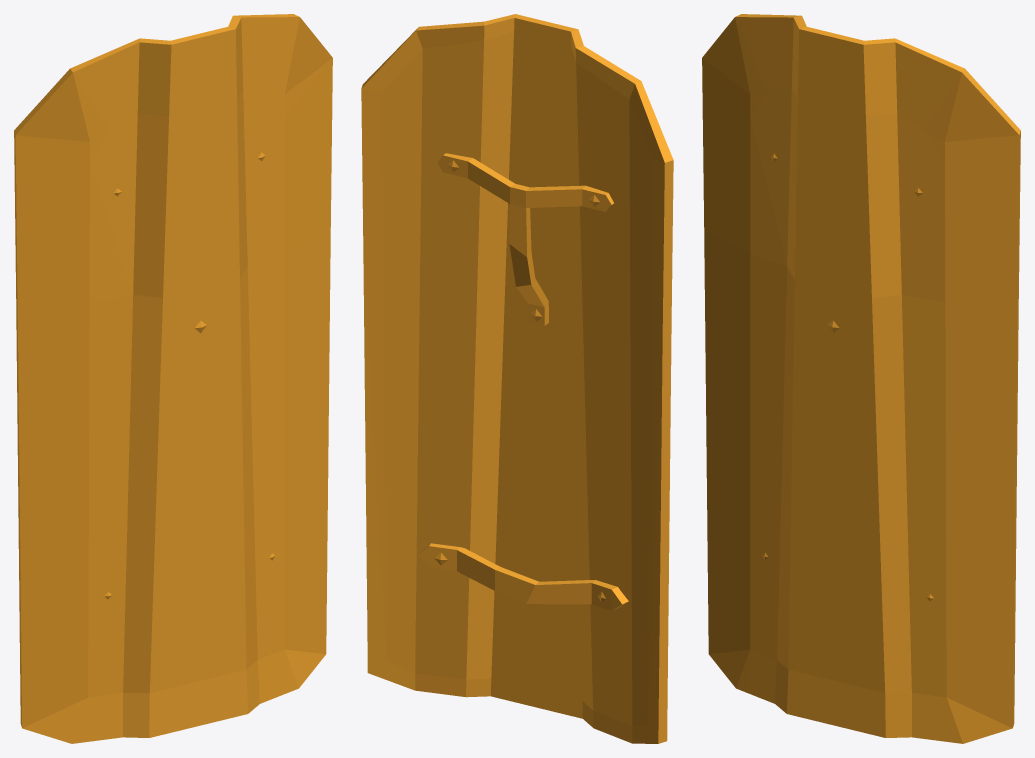
The model's file is SM_Shield_Pavise_C.fbx.
The picture shows the model from 3 angles, left to right: view 1: azimuth 30°, elevation 25°; view 2: azimuth 150°, elevation 25°; view 3: azimuth 330°, elevation 25°; orthographic projection. The views are drawn at different scales.
Parts seen in each view (by area): view 1: shield-pavise-c; view 2: shield-pavise-c; view 3: shield-pavise-c.
Boxes of the visible parts, bbox=[...] form: shield-pavise-c: bbox=[14, 14, 332, 743]; shield-pavise-c: bbox=[361, 14, 673, 743]; shield-pavise-c: bbox=[702, 14, 1020, 743].
Size of the model in its own units: 0.7638 by 1.59 by 0.1445.
